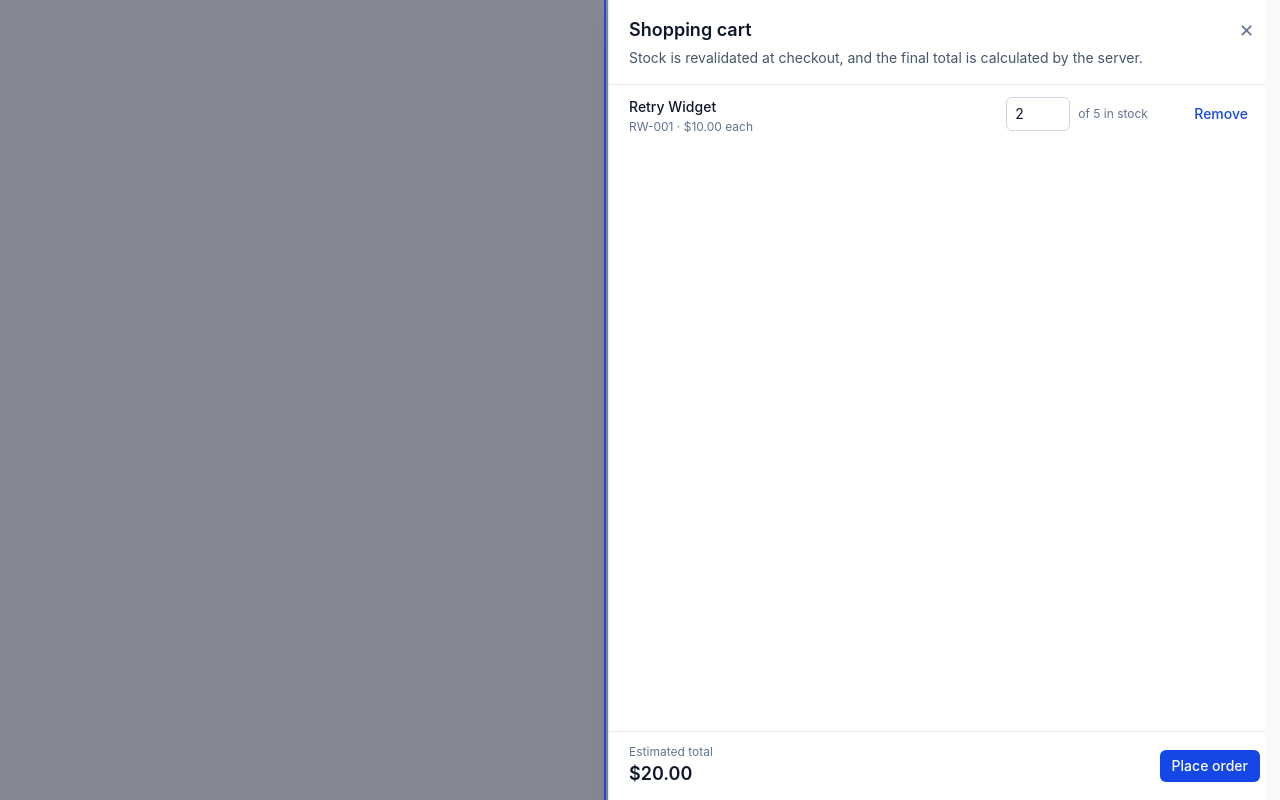
it: CartDrawer › reuses the same idempotency key when retrying a failed network request
Step 1. Click the button "Place order" → (1210, 766), box [1160,750,1260,782]
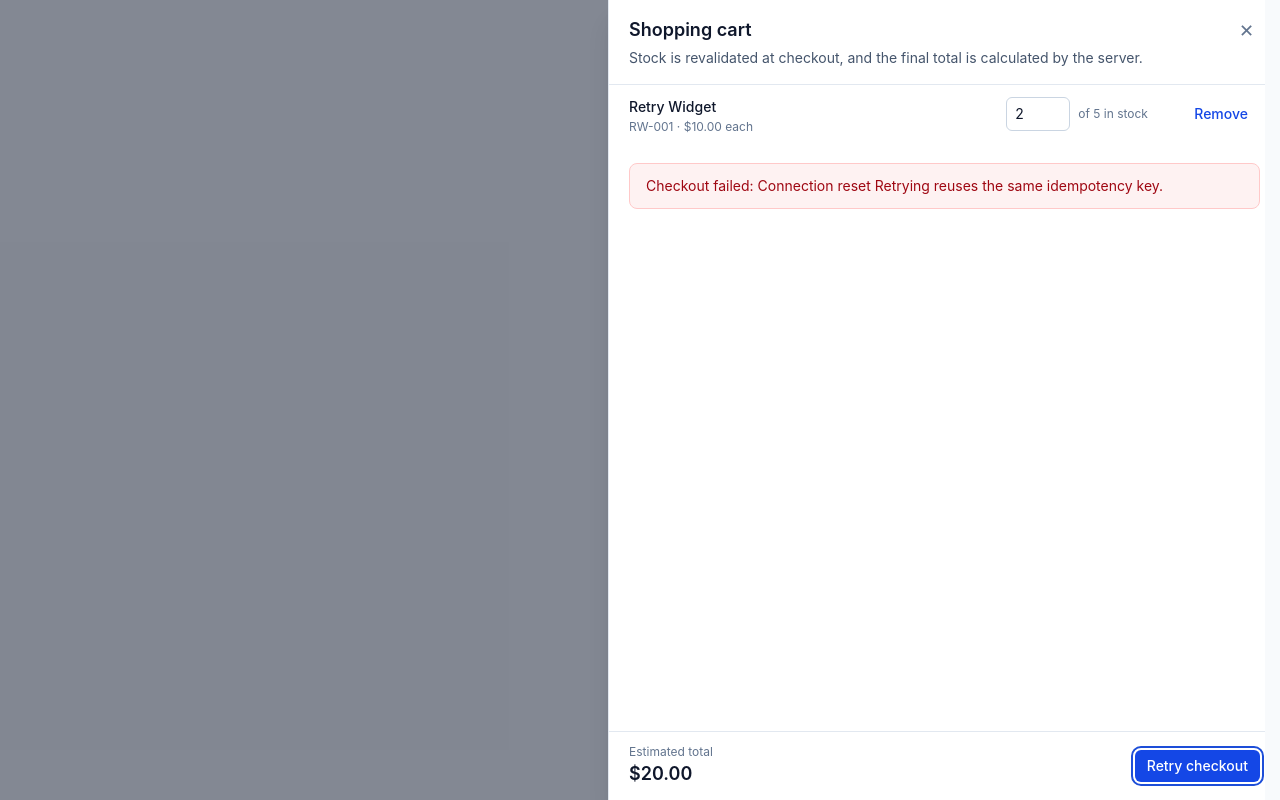
Check: the text "Checkout failed: Connection reset Retrying reuses the same idempotency key." is shown, box [629,163,1260,209]
Step 2. Click the button "Retry checkout" → (1197, 766), box [1135,750,1260,782]
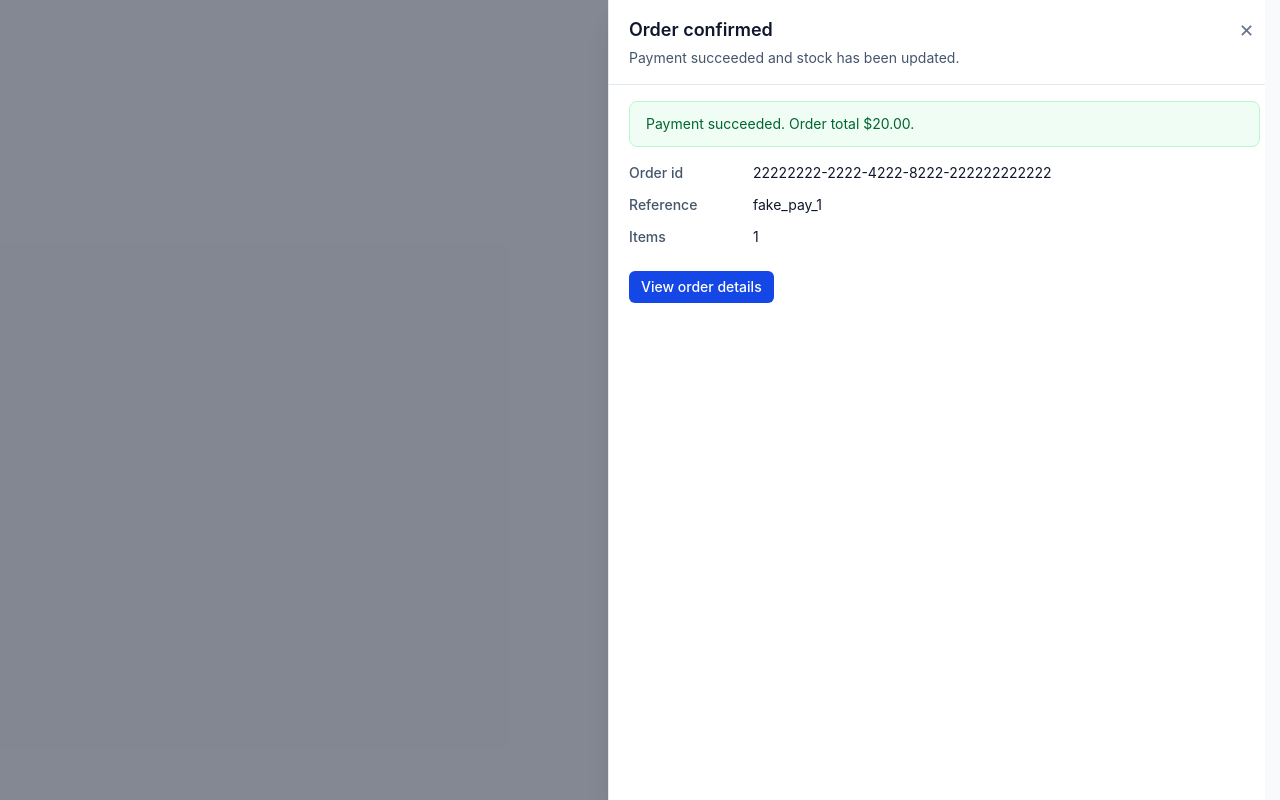
Check: the heading "Order confirmed" is shown, box [629,19,773,40]
